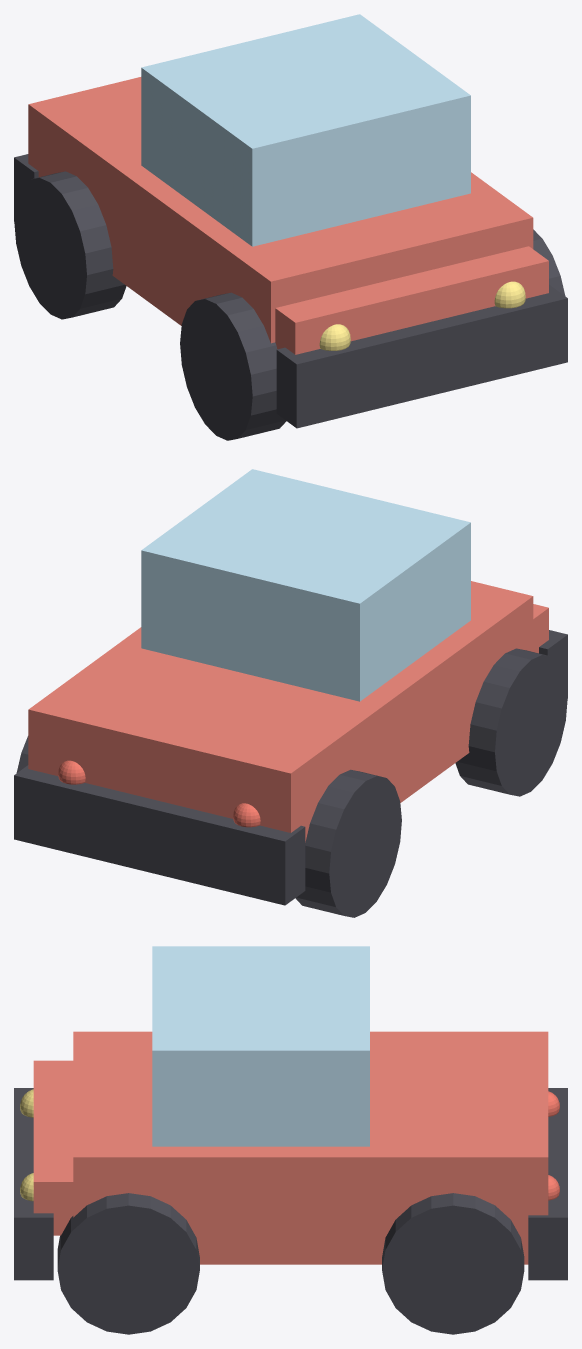
Rendered from car.glb.
3 renders of one model, top to bottom at view 1: azimuth 30°, elevation 25°; view 2: azimuth 150°, elevation 25°; view 3: azimuth 270°, elevation 25°, orthographic. The views are drawn at different scales.
Visible parts, largest first — view 1: Cabin, Body.001, BumperF, Hood, WheelRL, WheelFL, HeadR, HeadL, BumperR, WheelFR; view 2: Body.001, Cabin, BumperR, WheelFL, WheelRL, BumperF, Hood; view 3: Body.001, Cabin, WheelFR, WheelRR, Hood, BumperR, BumperF.
Part boxes in pixels (<box>): Cabin: <box>141,14,470,246</box>; Body.001: <box>28,77,533,343</box>; BumperF: <box>276,284,567,428</box>; Hood: <box>275,246,548,354</box>; WheelRL: <box>14,171,126,319</box>; WheelFL: <box>180,292,286,440</box>; HeadR: <box>494,281,525,308</box>; HeadL: <box>319,324,350,350</box>; BumperR: <box>14,154,38,221</box>; WheelFR: <box>533,229,565,295</box>; Body.001: <box>28,581,533,842</box>; Cabin: <box>141,469,470,701</box>; BumperR: <box>14,765,305,905</box>; WheelFL: <box>455,648,567,796</box>; WheelRL: <box>295,769,401,917</box>; BumperF: <box>539,630,567,698</box>; Hood: <box>533,604,548,653</box>; Body.001: <box>73,1031,548,1264</box>; Cabin: <box>152,946,369,1146</box>; WheelFR: <box>57,1193,199,1334</box>; WheelRR: <box>382,1193,524,1334</box>; Hood: <box>33,1060,73,1235</box>; BumperR: <box>528,1088,567,1280</box>; BumperF: <box>14,1088,53,1280</box>.
Bounding box in the file's own units: 1.8 × 1.45 × 2.8.
